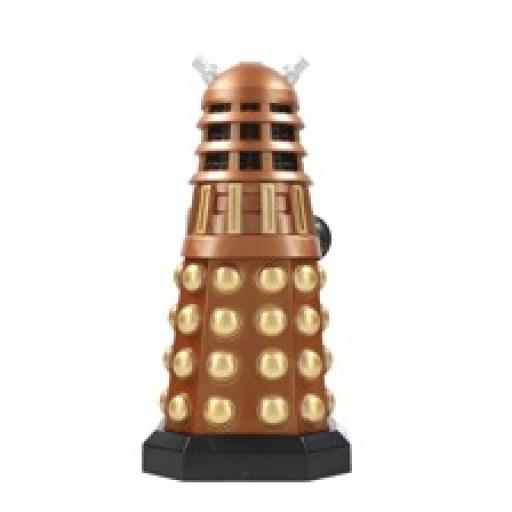dalek: (140, 49, 360, 482)
